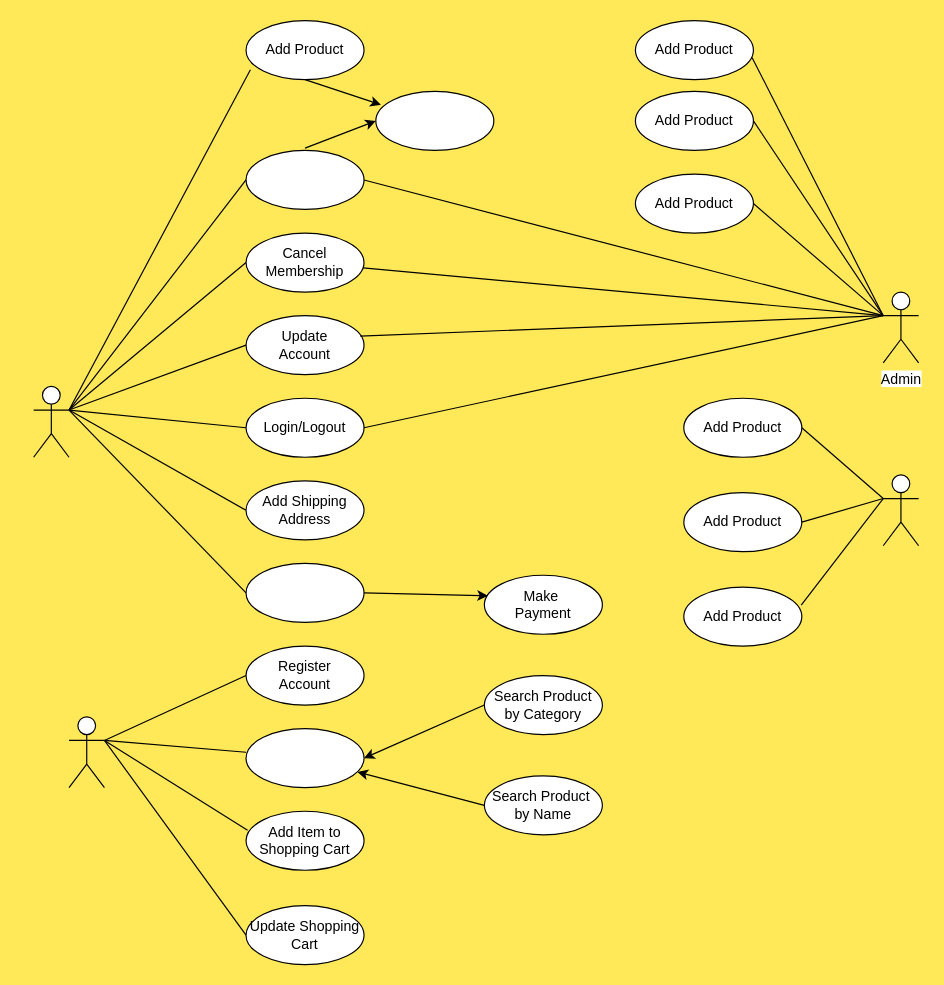
Some shapes in this 944 by 985 pixel diagram are drawn without their labels. Here are the shapes that lost their labels. From the top down, the centre of each, then its label:
At point (434, 120): "Update Catalog".
At point (304, 179): "Modify Product".
At point (50, 421): "Customer".
At point (900, 510): "System".
At point (304, 592): "Checkout Shopping Cart".
At point (86, 752): "Guest".
At point (304, 757): "Search Product".
